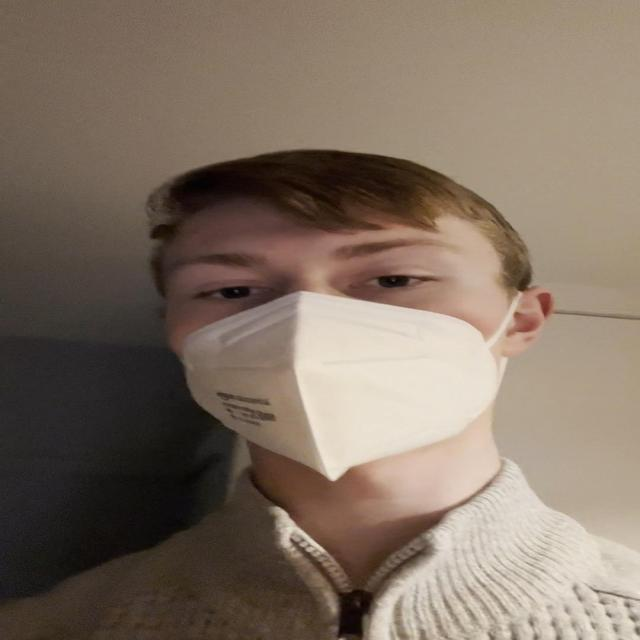no-helmet: (159, 193, 507, 480)
